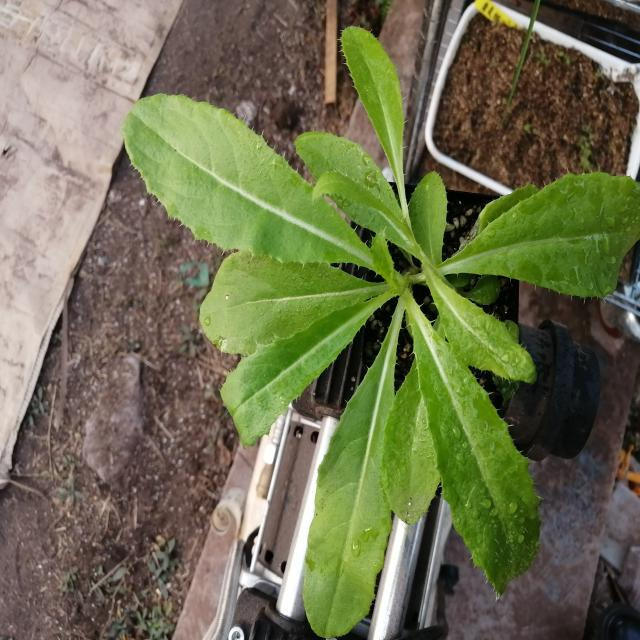field_thistle: (129, 62, 611, 571)
